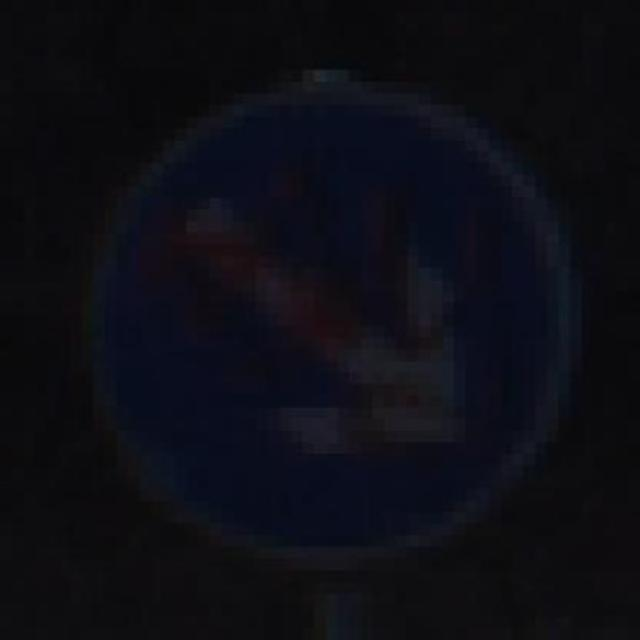Keep-Right: (58, 69, 594, 594)
